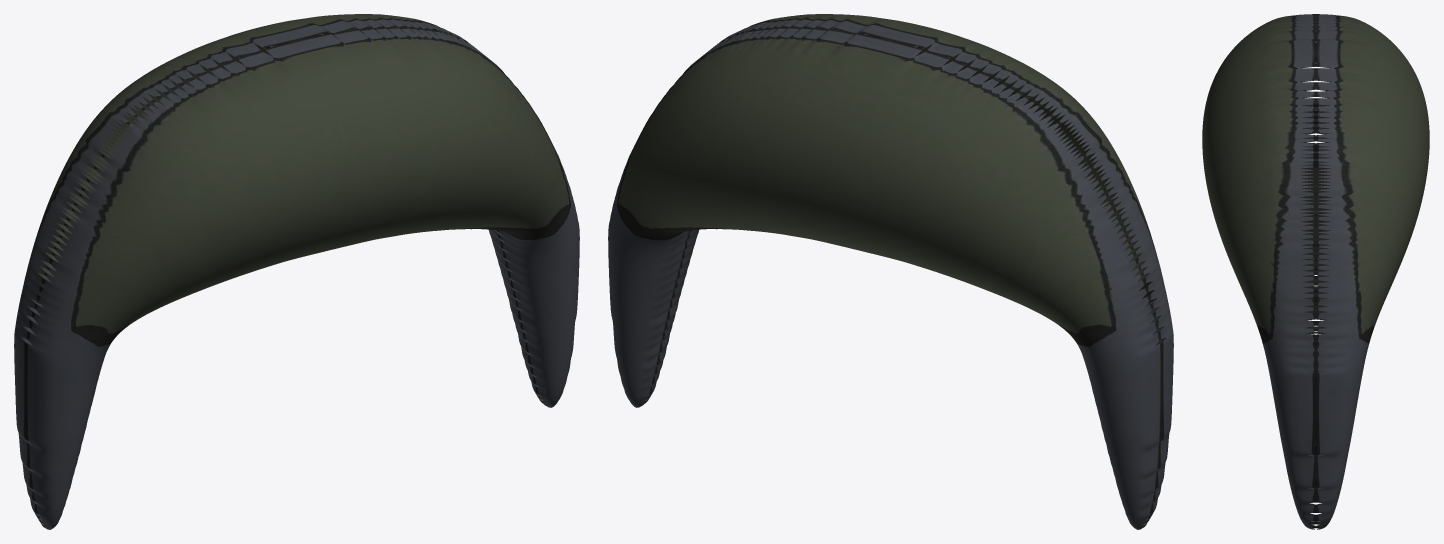
The model's file is overhead_arch.glb.
3 renders of one model, left to right at view 1: azimuth 30°, elevation 25°; view 2: azimuth 150°, elevation 25°; view 3: azimuth 270°, elevation 25°, orthographic. The views are drawn at different scales.
Parts seen in each view (by area): view 1: overhead_arch; view 2: overhead_arch; view 3: overhead_arch.
Part boxes in pixels (<box>): overhead_arch: <box>14,14,579,529</box>; overhead_arch: <box>608,14,1173,529</box>; overhead_arch: <box>1202,14,1429,529</box>.
Size of the model in its own units: 0.989 by 0.744 by 0.4137.
1 material, 1 textured.
